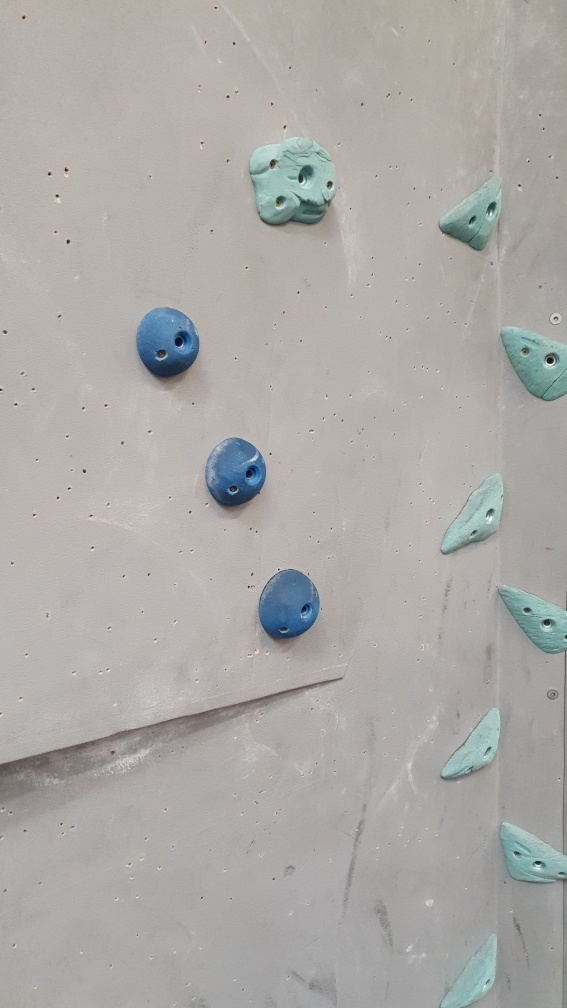Crimp: (498, 311, 567, 407), (493, 572, 567, 659), (435, 469, 508, 556), (422, 930, 501, 1008), (434, 171, 510, 252), (436, 702, 508, 785), (488, 818, 567, 885)
Sloper: (134, 297, 204, 394), (204, 434, 274, 521), (255, 562, 326, 647)
